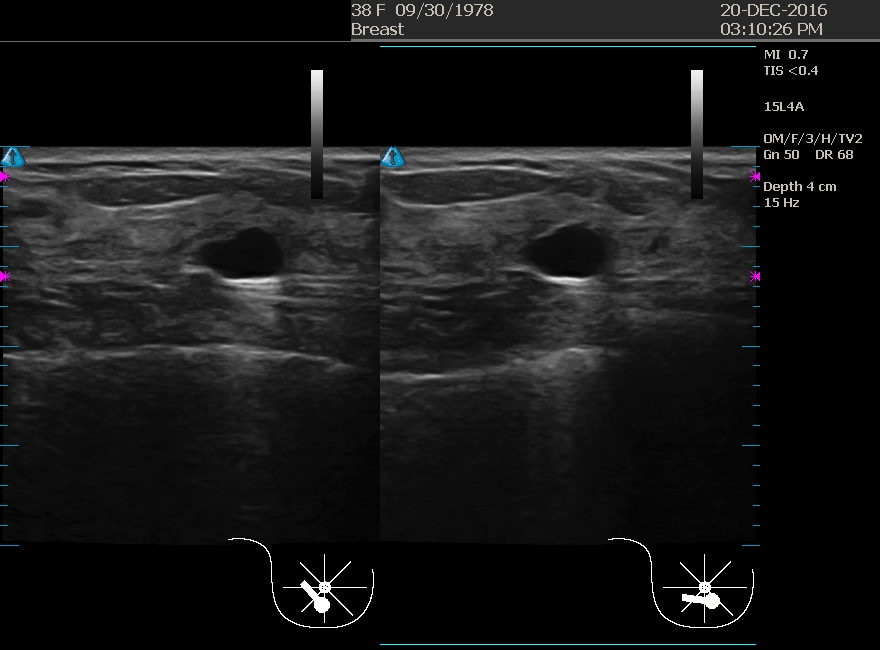BIRADS_2: (174, 201, 374, 401), (475, 176, 675, 376)
